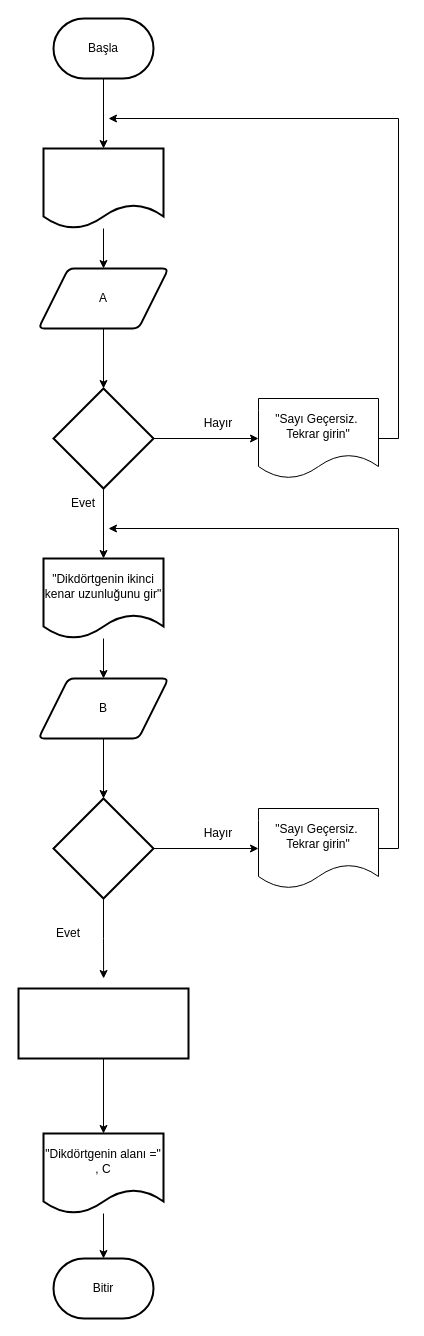
The diagram is 424 pixels wide and 1336 high, and some of its shapes have lost their labels. The shapes that lost their labels are listed below. From the top down, each one's centre as x and y in pixels, then its label:
point 103,188: "Dikdörtgenin ilk kenar uzunluğunu gir"
point 103,438: A > 0
point 103,848: B > 0
point 103,1023: C = A * B
